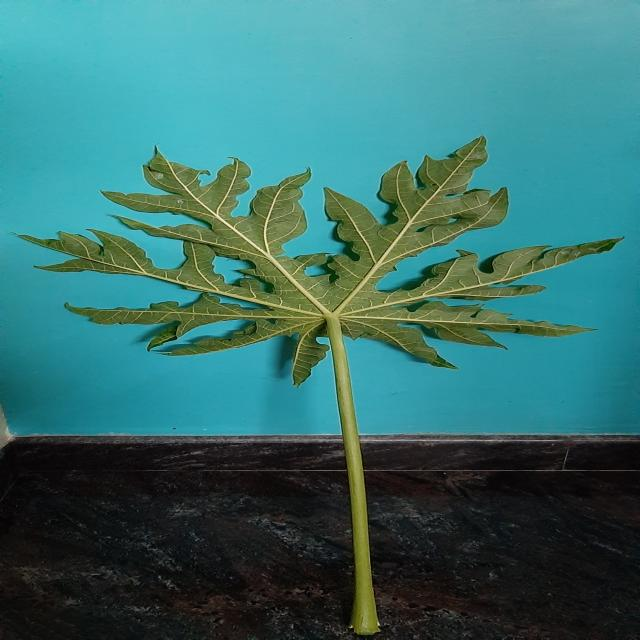papaya: (22, 139, 615, 384)
